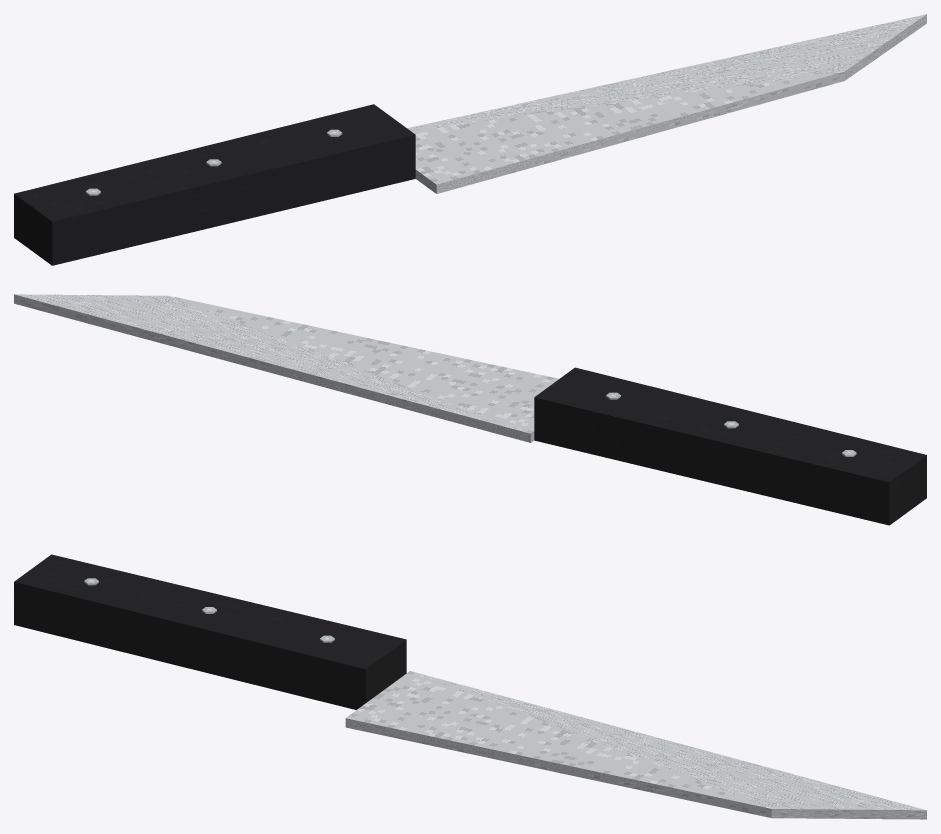
The model's file is knife_large.glb.
The picture shows the model from 3 angles, top to bottom: view 1: azimuth 30°, elevation 25°; view 2: azimuth 150°, elevation 25°; view 3: azimuth 330°, elevation 25°; orthographic projection. The views are drawn at different scales.
Parts seen in each view (by area): view 1: block_handle, block_blade; view 2: block_handle, block_blade; view 3: block_handle, block_blade.
Boxes of the visible parts, x1,y1,x2,y2 form: block_handle: [14, 104, 415, 265]; block_blade: [407, 14, 926, 193]; block_handle: [534, 367, 926, 525]; block_blade: [14, 294, 559, 442]; block_handle: [14, 554, 406, 709]; block_blade: [345, 671, 926, 819].
Size of the model in its own units: 0.3 by 0.0145 by 0.038.
2 materials, 2 textured.
